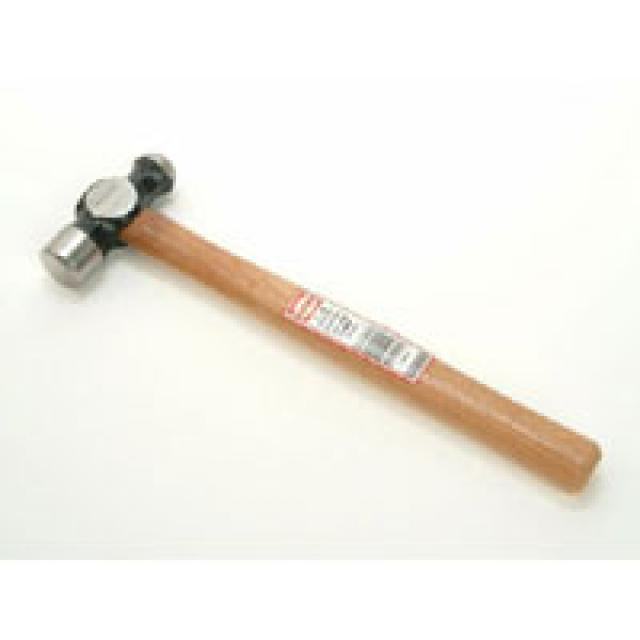hammer: (24, 136, 613, 508)
